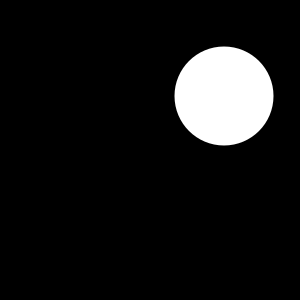rectangle: (174, 46, 274, 146)
